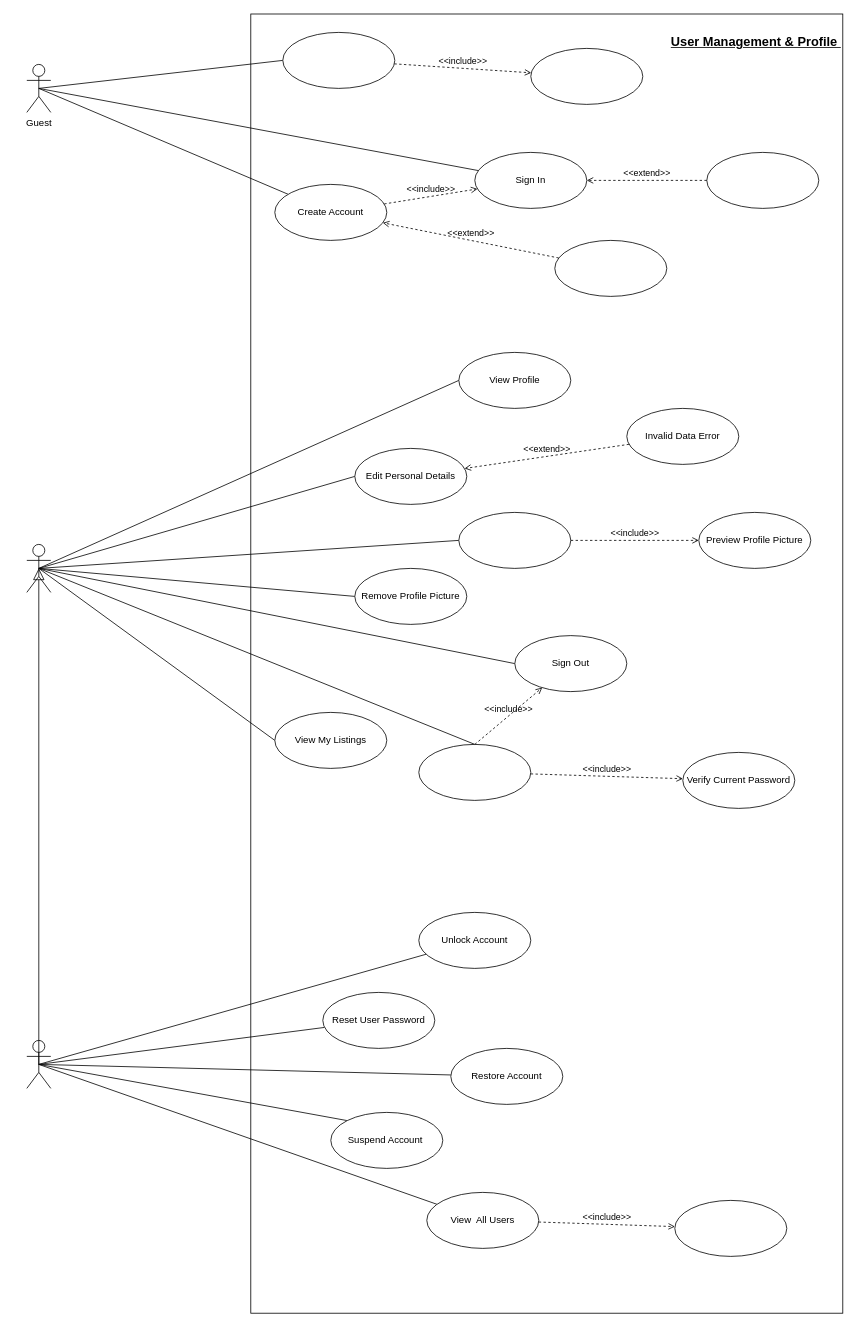
The diagram is 857 pixels wide and 1327 high, and some of its shapes have lost their labels. Each missing label, with the centre of its shape:
Account Locked: the point at 762,180
Admin: the point at 38,1064
Change Password: the point at 474,772
Contact Administrator: the point at 586,76
Display User Details & Status: the point at 730,1228
Duplicate Data Error: the point at 610,268
Forgot Password / Request Help: the point at 338,60
Log In User: the point at 38,568
Upload Profile Picture: the point at 514,540
